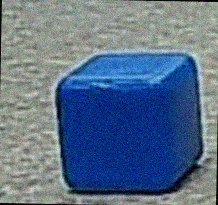blue_cube: (42, 48, 206, 198)
